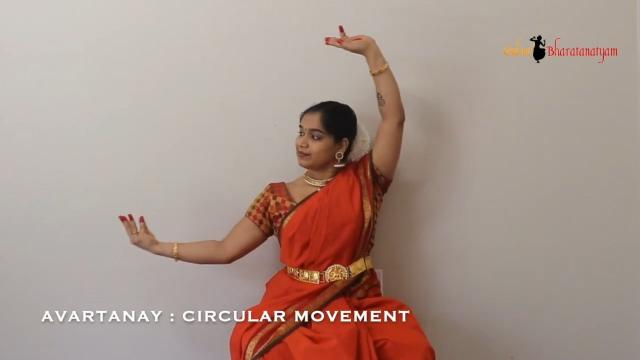padamkosh: (108, 198, 168, 262), (104, 204, 106, 204)
